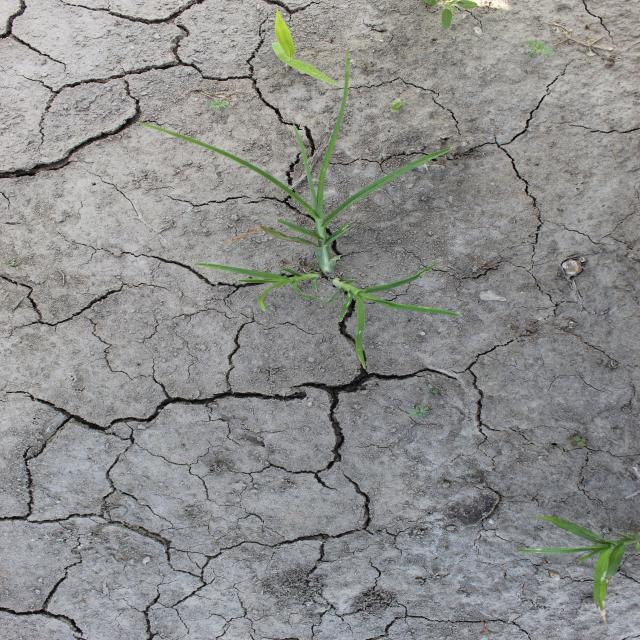Goosegrass: (130, 47, 467, 370)
